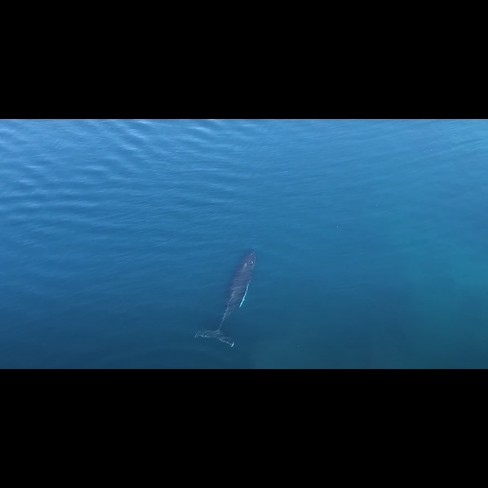hump: (191, 244, 265, 356)
